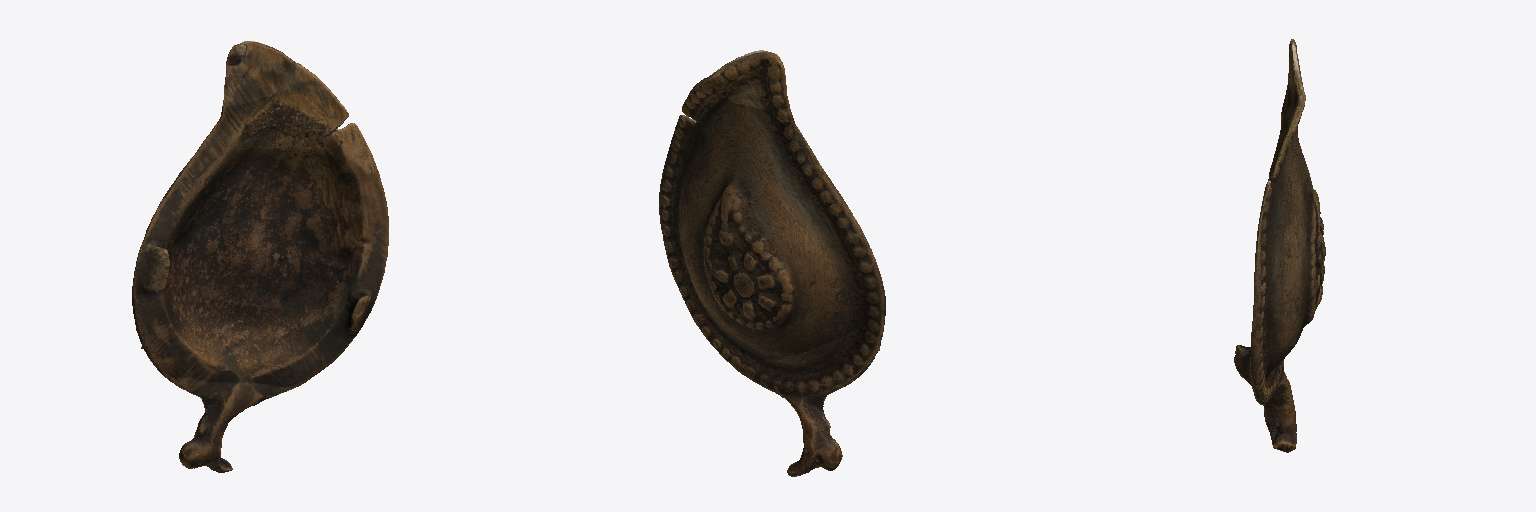
3 renders of one model, left to right at view 1: azimuth 30°, elevation 25°; view 2: azimuth 150°, elevation 25°; view 3: azimuth 270°, elevation 25°, orthographic.
Visible parts, largest first — view 1: Model; view 2: Model; view 3: Model.
Boxes of the visible parts, <box> form: Model: <box>132,41,388,472</box>; Model: <box>659,50,885,476</box>; Model: <box>1234,39,1325,452</box>.
Bounding box in the file's own units: 0.0595 × 0.0993 × 0.0196.
Materials: 1 (1 with a texture image).